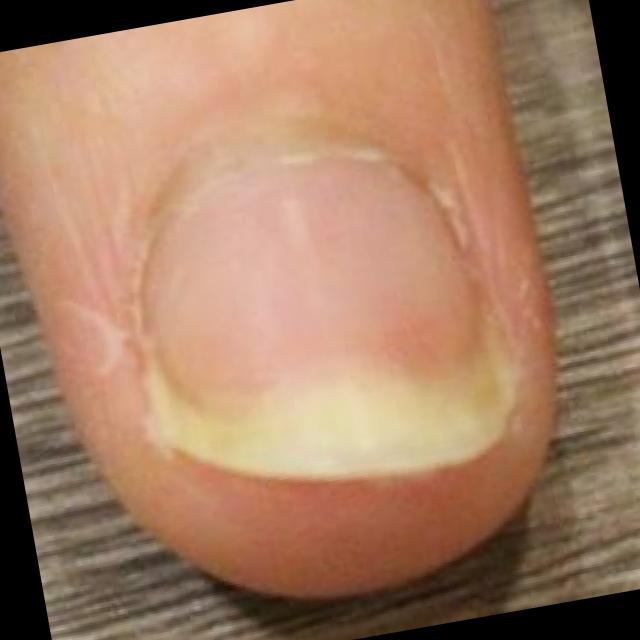Nail: (141, 147, 525, 476)
